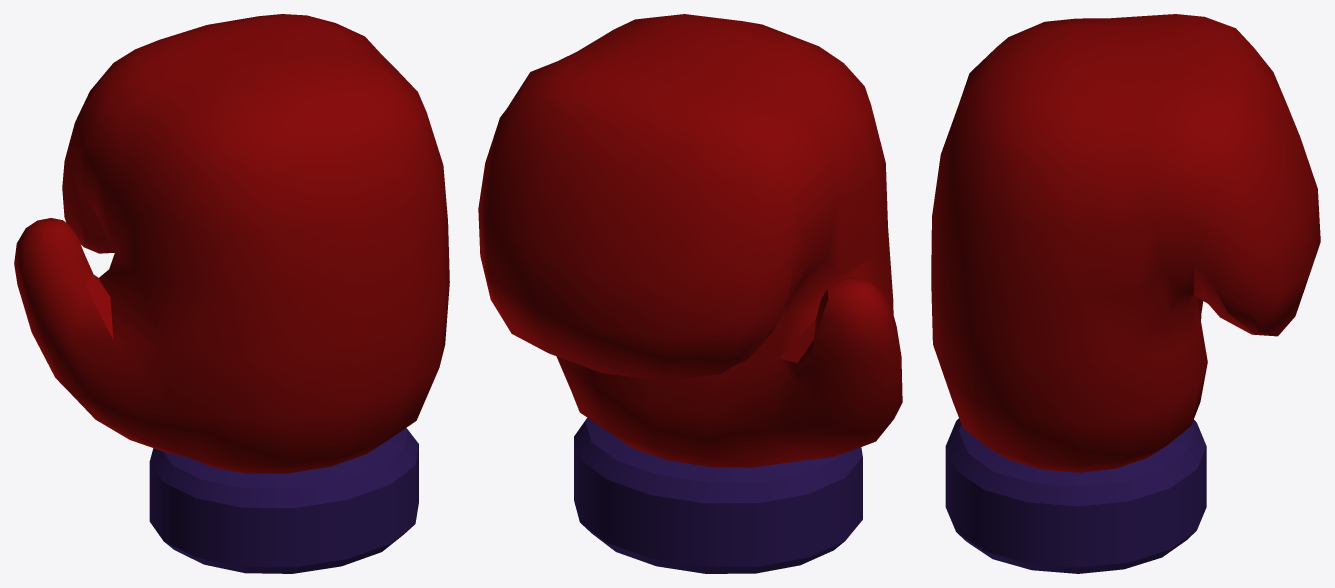
File: Boxing glove.FBX
3 renders of one model, left to right at view 1: azimuth 30°, elevation 25°; view 2: azimuth 150°, elevation 25°; view 3: azimuth 270°, elevation 25°, orthographic. The views are drawn at different scales.
Parts seen in each view (by area): view 1: Boxing glove; view 2: Boxing glove; view 3: Boxing glove.
Part boxes in pixels (x1,y1,x2,y2): Boxing glove: (14, 14, 449, 573); Boxing glove: (478, 14, 902, 573); Boxing glove: (931, 14, 1320, 573).
Size of the model in its own units: 823 by 740 by 990.
